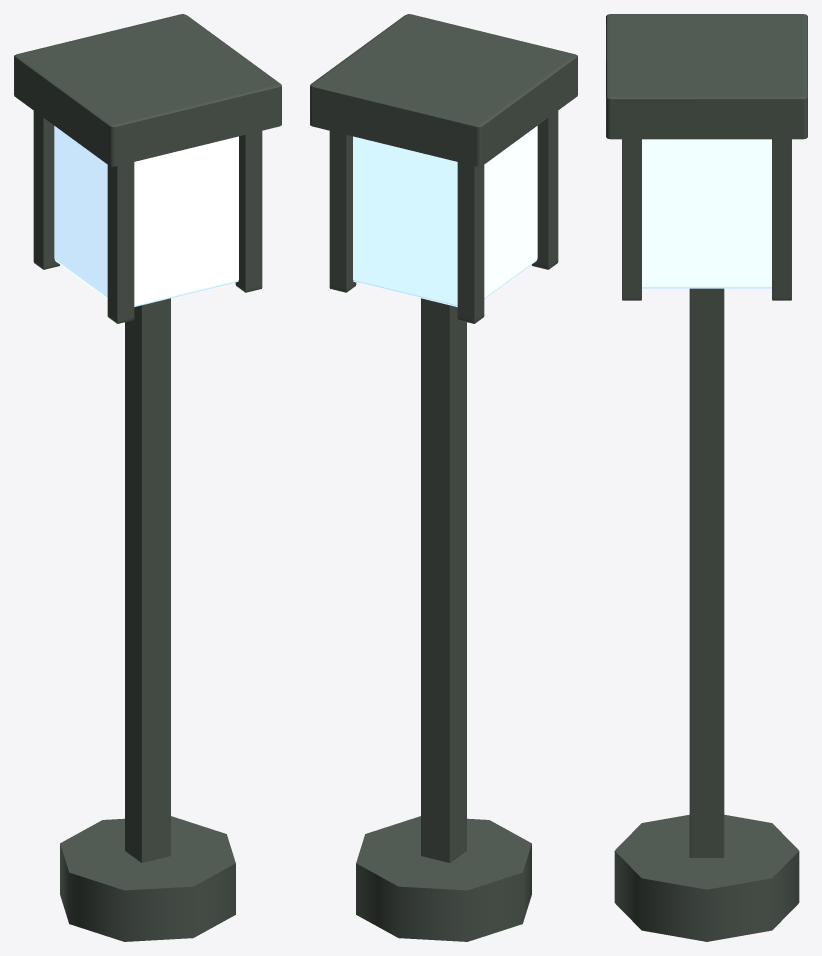
The model's file is lamp-2.glb.
3 views of the same model, side by side, from view 1: azimuth 30°, elevation 25°; view 2: azimuth 150°, elevation 25°; view 3: azimuth 270°, elevation 25° (orthographic).
Visible parts, largest first — view 1: lamp-2-0; view 2: lamp-2-0; view 3: lamp-2-0.
Part boxes in pixels (box(x1,y1,x2,y2)): lamp-2-0: box(14, 14, 281, 941); lamp-2-0: box(310, 14, 577, 941); lamp-2-0: box(606, 14, 807, 941).
Size of the model in its own units: 0.35 by 1.62 by 0.35.
